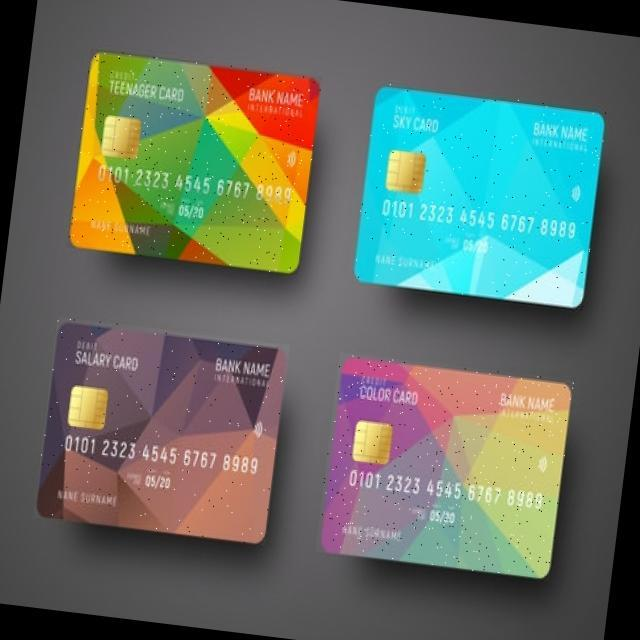payment_card: (318, 354, 573, 581), (352, 83, 605, 309), (36, 317, 286, 545), (68, 49, 320, 275)
